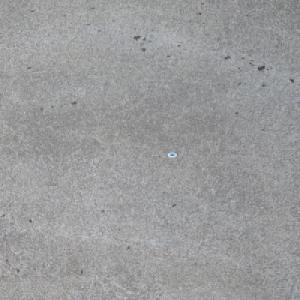Washer: (167, 151, 178, 158)
